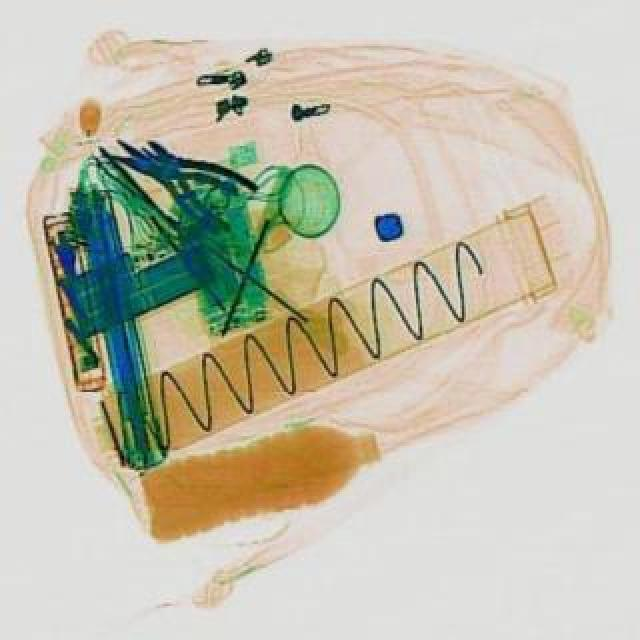wrench: (116, 126, 258, 234), (96, 130, 242, 234)
